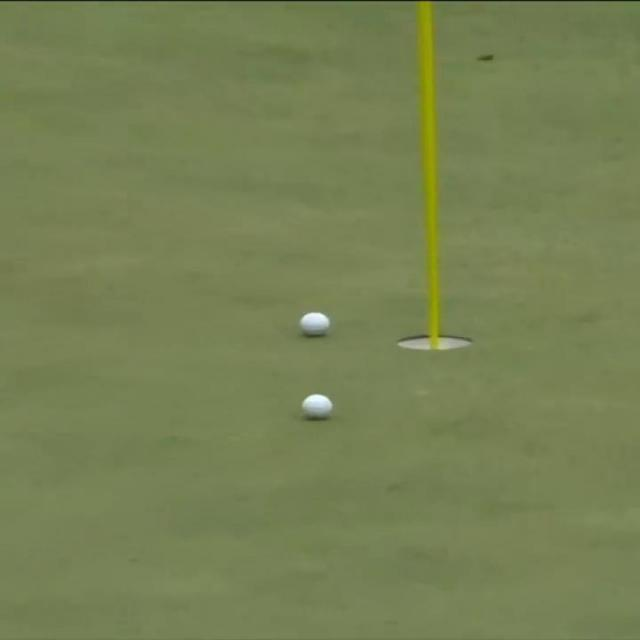GolfBall: (295, 311, 332, 336), (299, 393, 333, 417)
